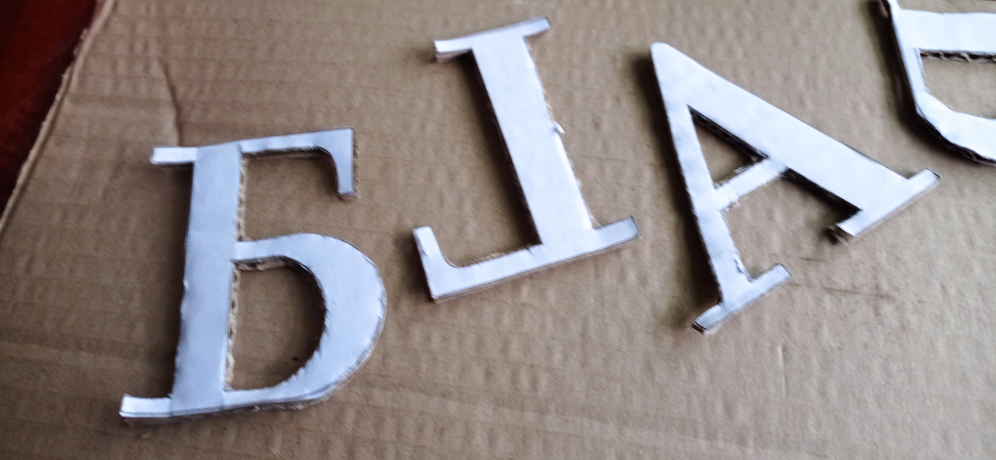a: (650, 41, 942, 336)
b: (120, 124, 389, 425)
g: (410, 18, 642, 304)
